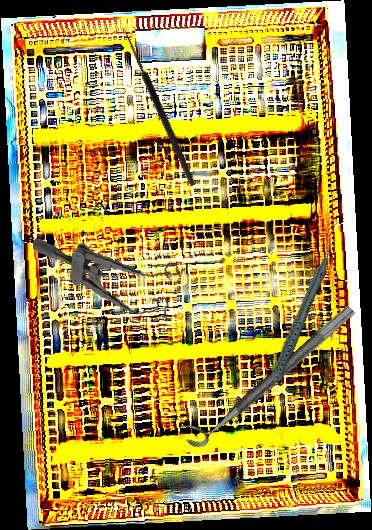Fixation Ring: (176, 290, 357, 454)
Handpiece: (231, 255, 357, 402)
Hook Surgical: (112, 25, 197, 191)
Speculum: (26, 238, 188, 320)
